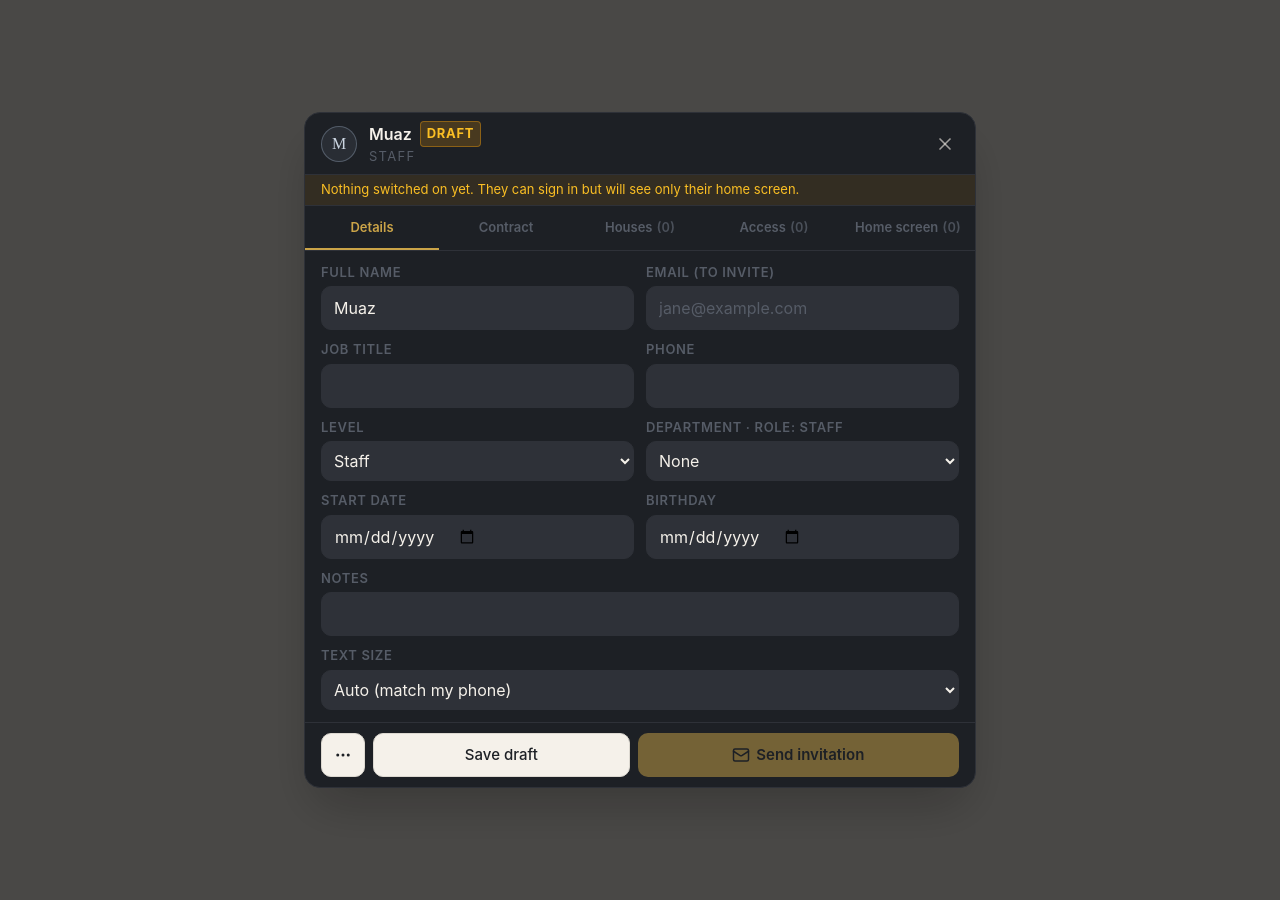
Test case: contract tab › blank contract saves null and the clock switch adds the locked shortcut
Later steps or results of the test are not shown.
Click the tab "Access(0)" at [774, 228], box left=707, top=206, right=841, bottom=250
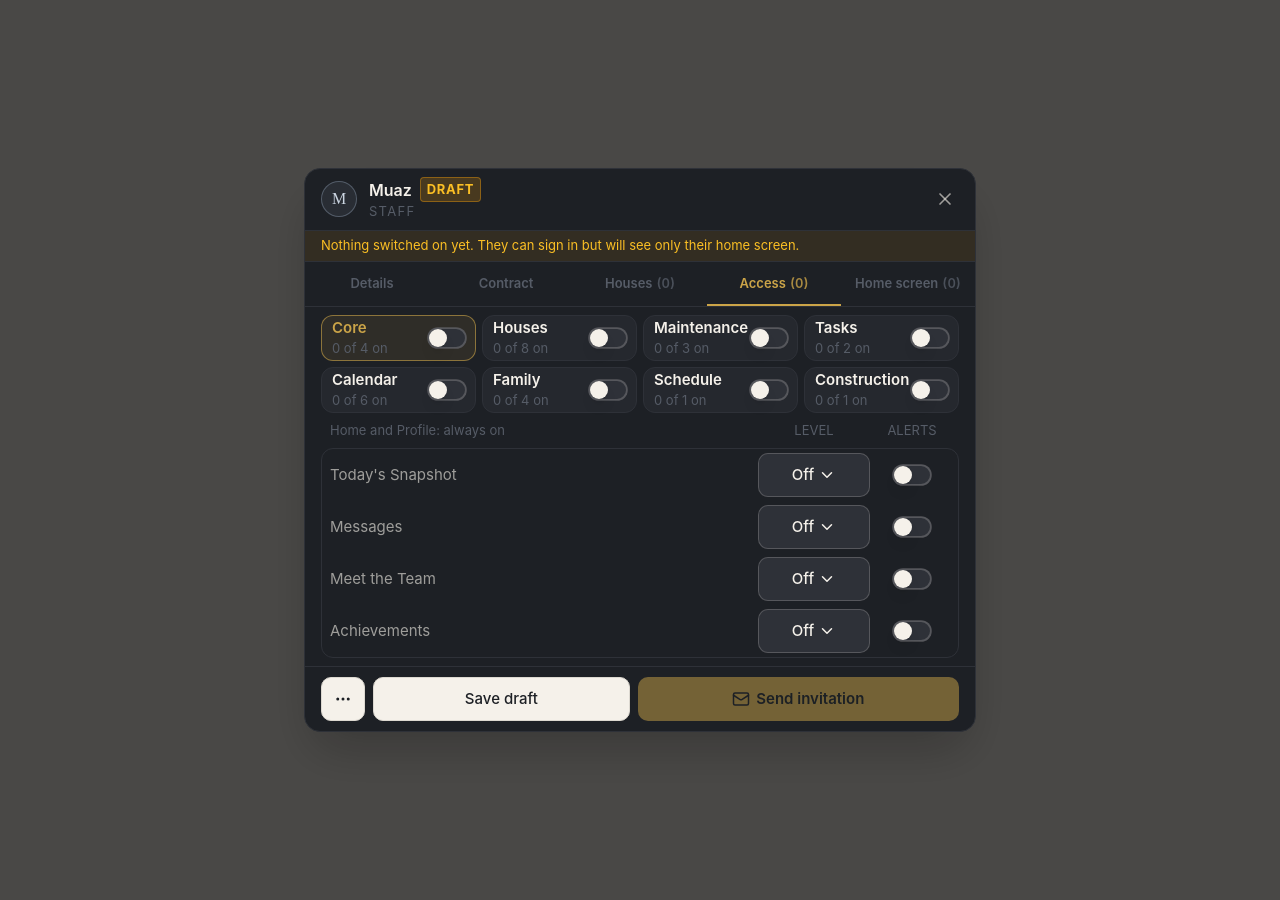
Click the button "Schedule 0 of 1 on" at [694, 390], box left=644, top=368, right=743, bottom=412
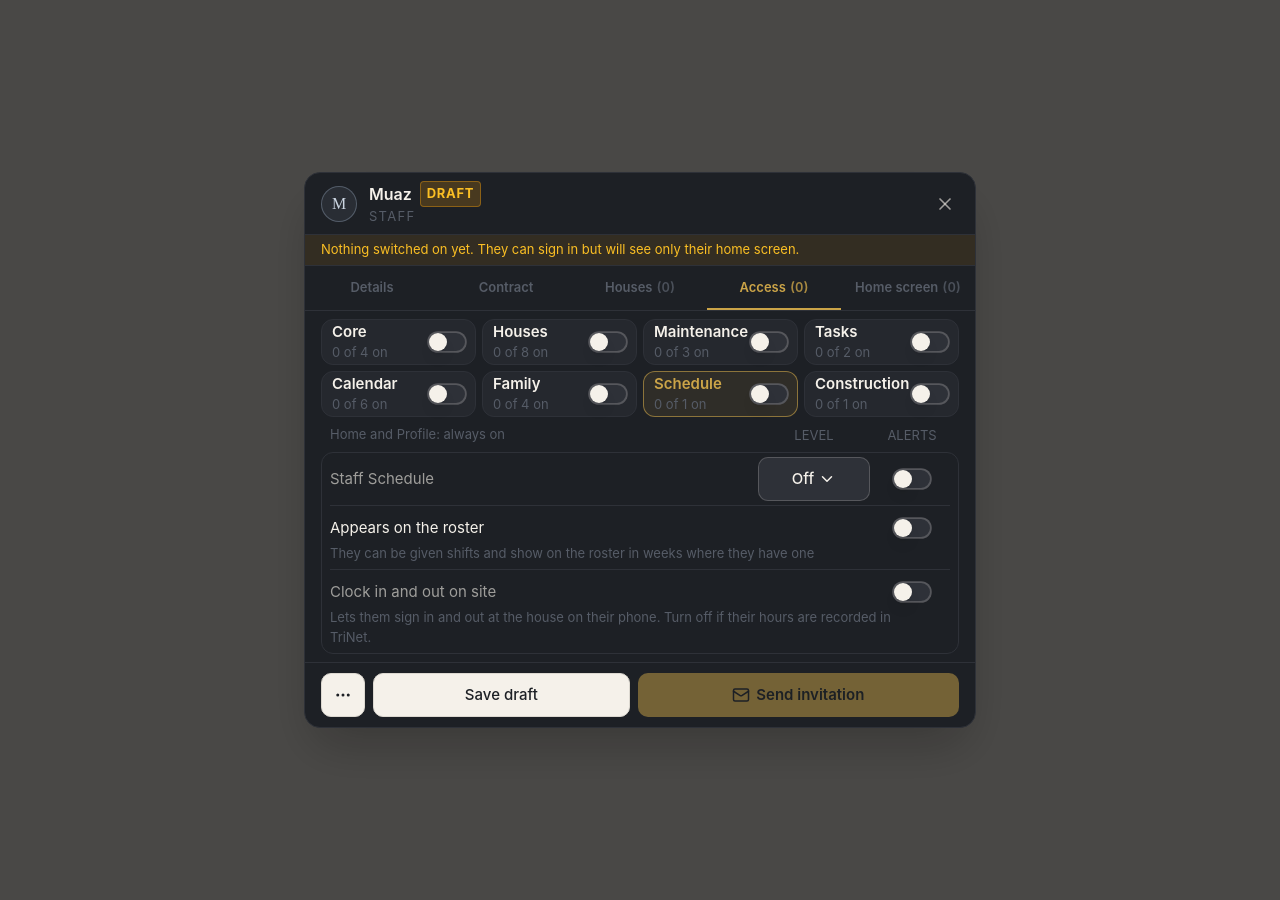
Click the switch named "Clock in and out on site" at [912, 592], box left=892, top=582, right=932, bottom=603
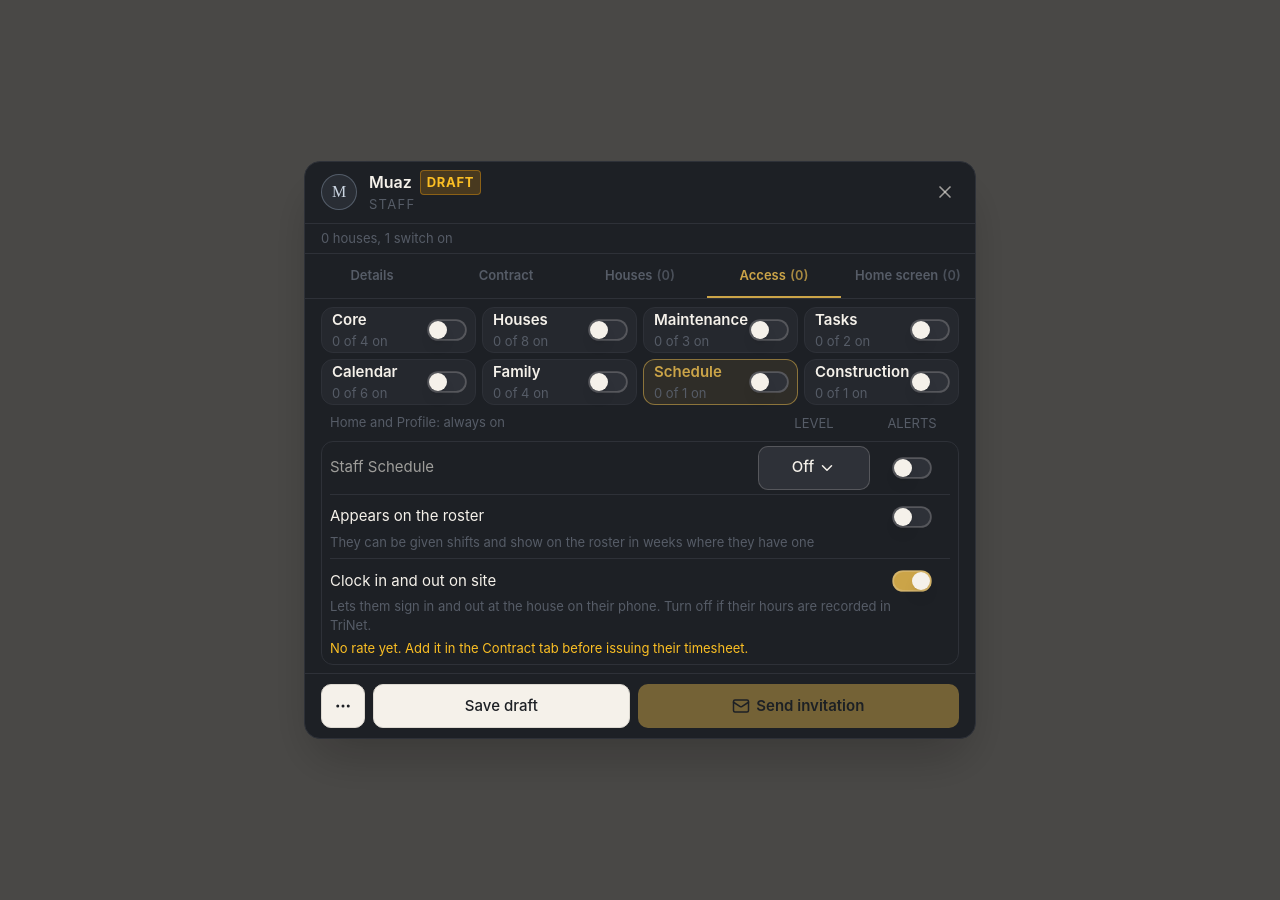
Result: the text with test id "clock-no-rate" reads "No rate yet. Add it in the Contract tab before issuing their timesheet." at left=330, top=640, right=748, bottom=656
Click the tab "Home screen(0)" at [908, 276], box left=841, top=254, right=975, bottom=298
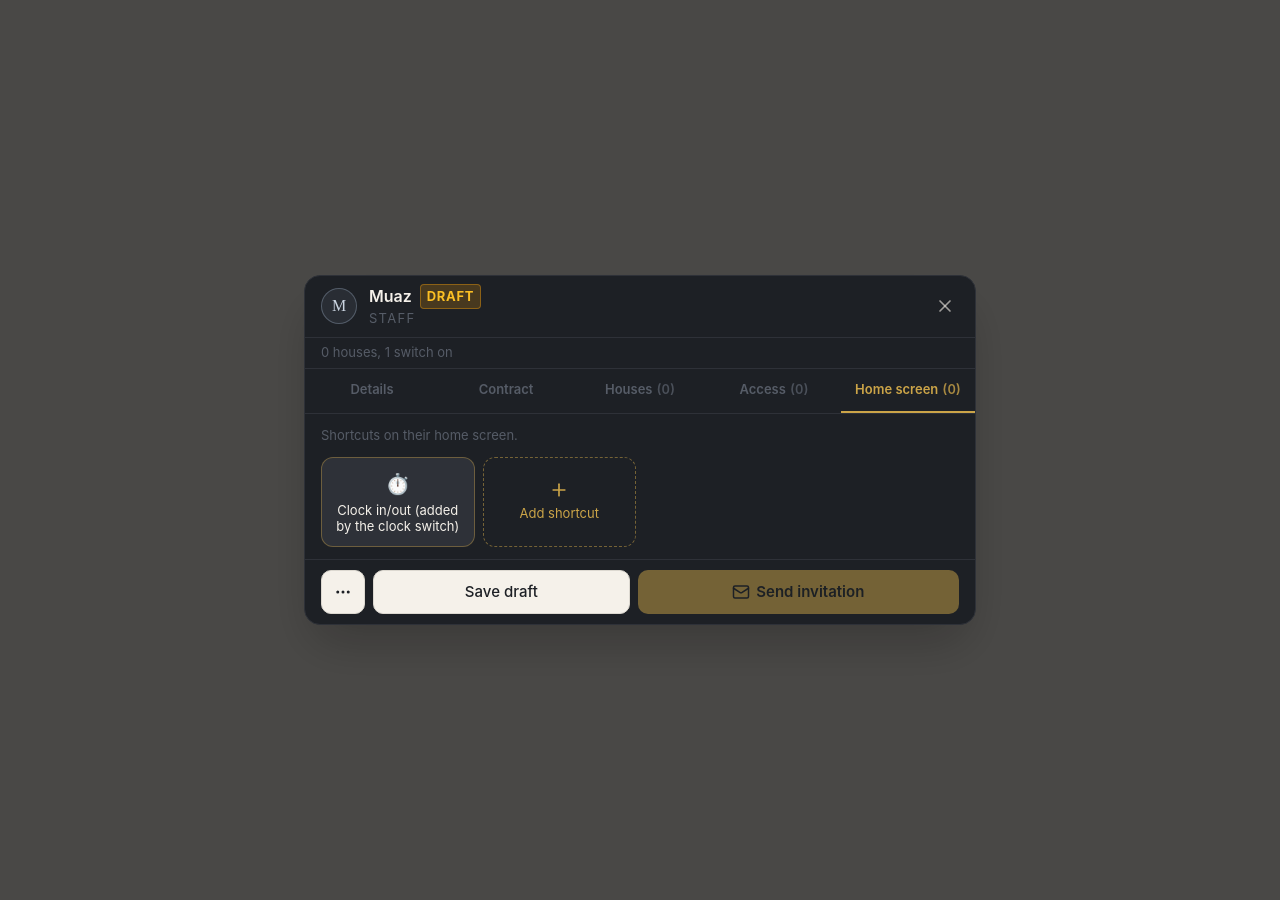
Result: the element with test id "locked-clock-tile" shows "Clock in/out (added by the clock switch)" at left=336, top=502, right=459, bottom=534
